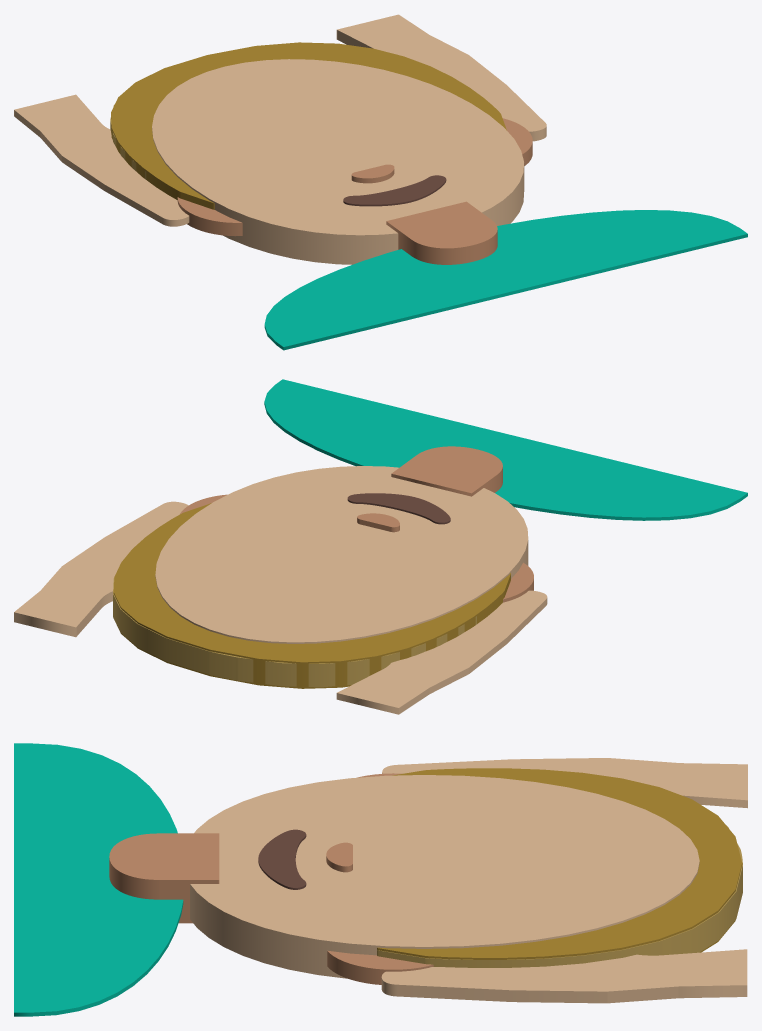
File: emoji_u1f486_1f3fc_200d_2642.glb
3 views of the same model, one above another, from view 1: azimuth 30°, elevation 25°; view 2: azimuth 150°, elevation 25°; view 3: azimuth 270°, elevation 25° (orthographic). The views are drawn at different scales.
Parts seen in each view (by area): view 1: emoji_u1f486_1f3fc_200d_2642; view 2: emoji_u1f486_1f3fc_200d_2642; view 3: emoji_u1f486_1f3fc_200d_2642.
Boxes of the visible parts, <box> form: emoji_u1f486_1f3fc_200d_2642: <box>14,14,747,350</box>; emoji_u1f486_1f3fc_200d_2642: <box>14,379,747,714</box>; emoji_u1f486_1f3fc_200d_2642: <box>14,743,747,1016</box>.
Bounding box in the file's own units: 0.0294 × 0.0024 × 0.0338.
